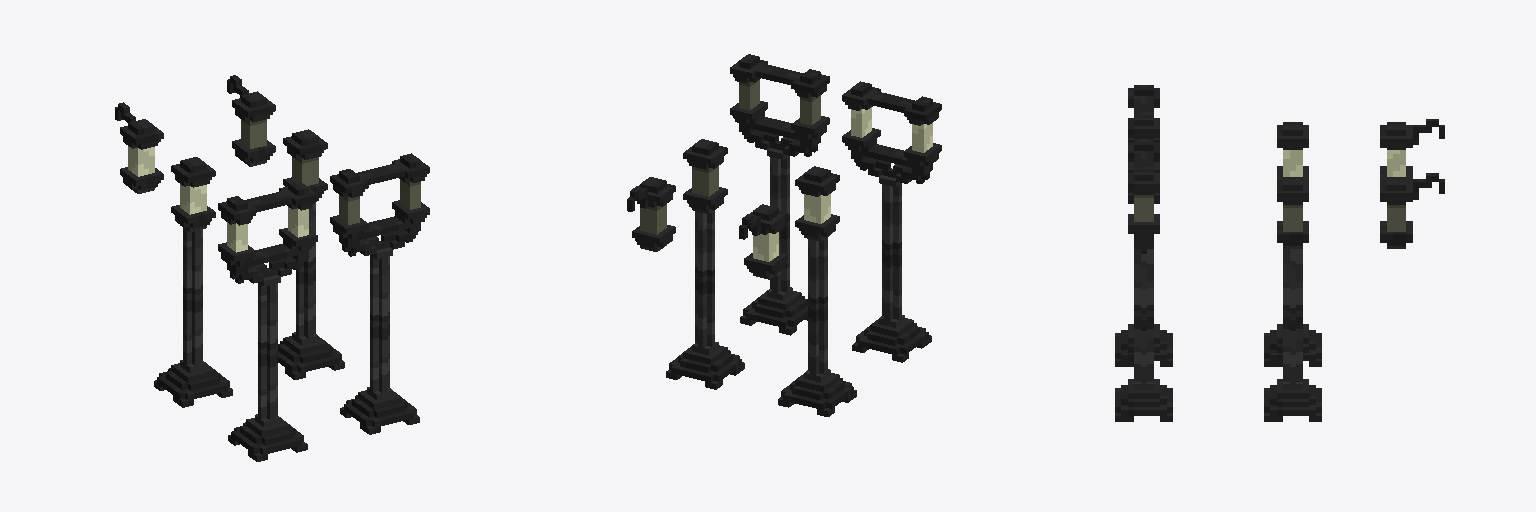
The picture shows the model from 3 angles: view 1: azimuth 30°, elevation 25°; view 2: azimuth 150°, elevation 25°; view 3: azimuth 270°, elevation 25°; orthographic projection.
Visible parts, largest first — view 1: 124; view 2: 124; view 3: 124.
Boxes of the visible parts, <box> form: 124: <box>115,75,429,461</box>; 124: <box>627,54,941,416</box>; 124: <box>1115,85,1444,421</box>.
Bounding box in the file's own units: 35 × 43 × 51.
Materials: 1 (1 with a texture image).